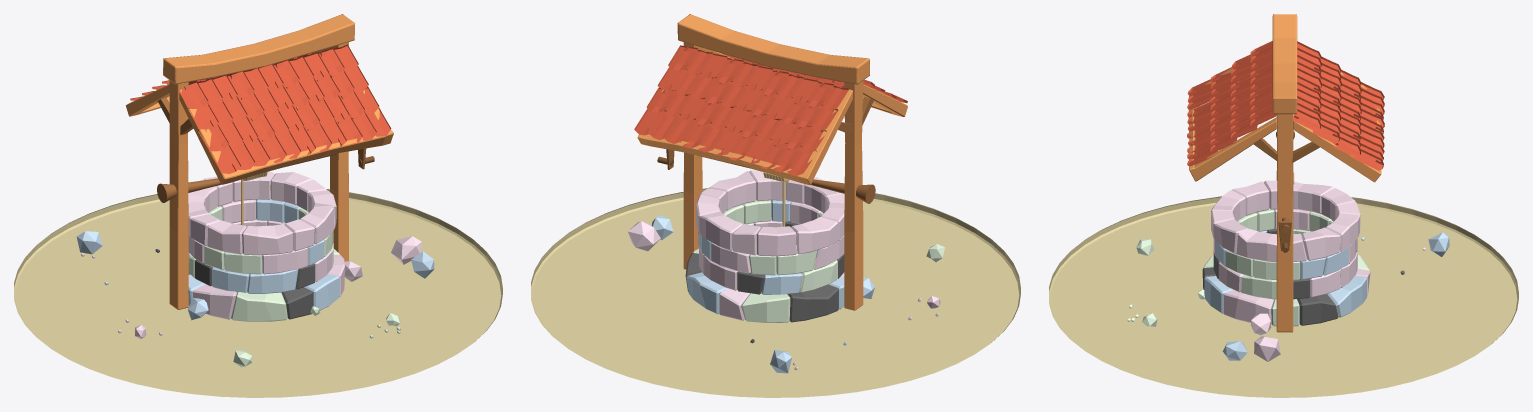
Rendered from well.glb.
The picture shows the model from 3 angles, left to right: view 1: azimuth 30°, elevation 25°; view 2: azimuth 150°, elevation 25°; view 3: azimuth 270°, elevation 25°; orthographic projection. The views are drawn at different scales.
Parts seen in each view (by area): view 1: Cylinder.004, Cube.003, Cube.004, Cube.006, Cube, Cube.002, Cube.001, Cube.005, Cylinder, Icosphere.002, Plane.002, Plane.039 (+8 smaller); view 2: Cylinder.004, Cube.003, Cube.006, Cube.004, Cube, Cube.002, Cube.001, Cube.005, Cylinder, Icosphere.002, Plane.083, Plane.046 (+8 smaller); view 3: Cylinder.004, Cube.003, Cube, Cube.006, Cube.002, Cube.004, Cube.001, Cube.005, Icosphere.002.
Part boxes in pixels (x1=…): Cylinder.004: x1=14, y1=185, x2=502, y2=397; Cube.003: x1=188, y1=171, x2=336, y2=255; Cube.004: x1=169, y1=42, x2=348, y2=309; Cube.006: x1=126, y1=14, x2=355, y2=116; Cube: x1=188, y1=249, x2=344, y2=321; Cube.002: x1=188, y1=193, x2=333, y2=274; Cube.001: x1=188, y1=219, x2=333, y2=293; Cube.005: x1=179, y1=87, x2=393, y2=184; Cylinder: x1=157, y1=153, x2=335, y2=202; Icosphere.002: x1=391, y1=236, x2=421, y2=264; Plane.002: x1=178, y1=81, x2=208, y2=108; Plane.039: x1=208, y1=144, x2=240, y2=173; Cylinder.004: x1=531, y1=188, x2=1020, y2=397; Cube.003: x1=696, y1=170, x2=844, y2=256; Cube.006: x1=637, y1=14, x2=869, y2=184; Cube.004: x1=683, y1=42, x2=863, y2=310; Cube: x1=685, y1=243, x2=844, y2=322; Cube.002: x1=698, y1=199, x2=844, y2=275; Cube.001: x1=699, y1=217, x2=844, y2=294; Cube.005: x1=702, y1=48, x2=907, y2=116; Cylinder: x1=698, y1=155, x2=875, y2=203; Icosphere.002: x1=628, y1=221, x2=660, y2=251; Plane.083: x1=634, y1=107, x2=666, y2=135; Plane.046: x1=668, y1=45, x2=698, y2=70; Cylinder.004: x1=1049, y1=196, x2=1518, y2=397; Cube.003: x1=1211, y1=180, x2=1360, y2=262; Cube: x1=1202, y1=254, x2=1370, y2=326; Cube.006: x1=1272, y1=14, x2=1381, y2=182; Cube.002: x1=1213, y1=208, x2=1357, y2=280; Cube.004: x1=1276, y1=114, x2=1293, y2=332; Cube.001: x1=1213, y1=228, x2=1357, y2=299; Cube.005: x1=1188, y1=56, x2=1276, y2=181; Icosphere.002: x1=1254, y1=336, x2=1280, y2=361.
Size of the model in its own units: 38.53 by 22.11 by 38.51.
